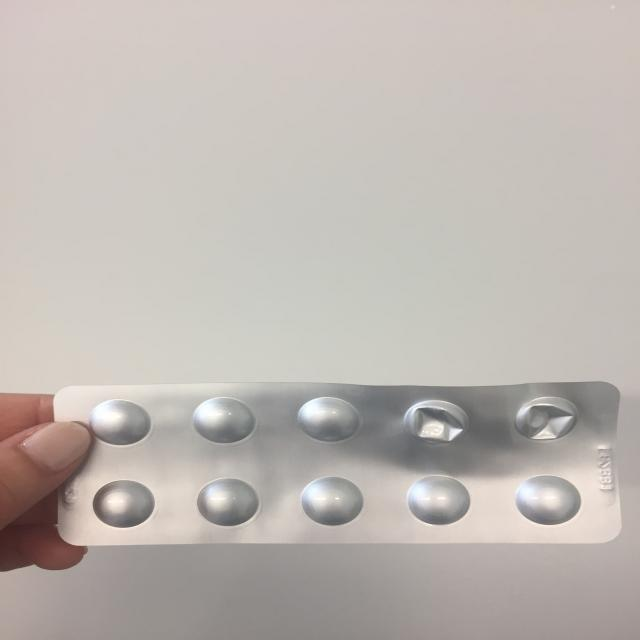Empty: (399, 397, 475, 449), (509, 394, 584, 443)
Pill: (401, 470, 475, 527), (510, 472, 585, 528), (297, 475, 370, 527), (195, 476, 261, 530), (189, 394, 258, 445), (87, 398, 156, 449), (294, 394, 363, 444), (91, 478, 156, 530)
